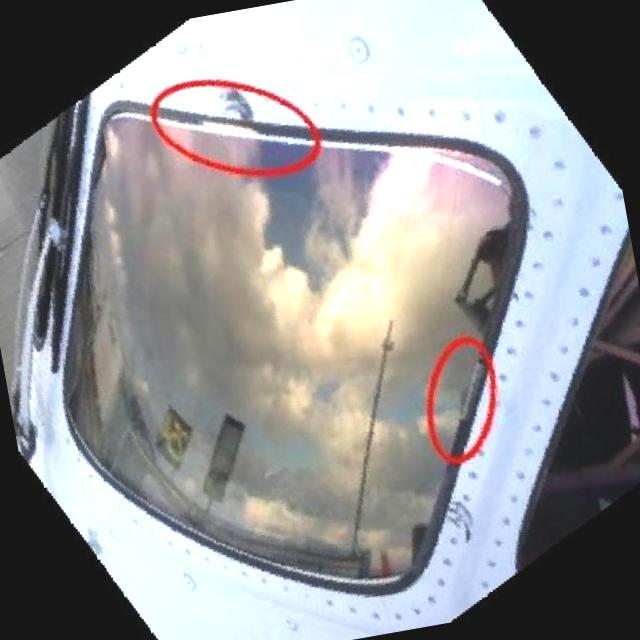crack: (446, 497, 476, 542)
